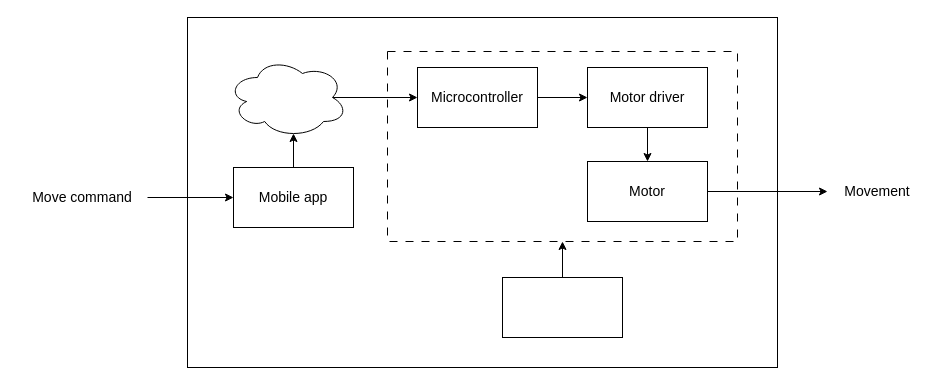
The diagram is 944 pixels wide and 385 high, and some of its shapes have lost their labels. The shapes that lost their labels are listed below. From the top down, each one's centre as x and y in pixels, then its label:
(x=287, y=97): Real time database
(x=562, y=307): Power supply
